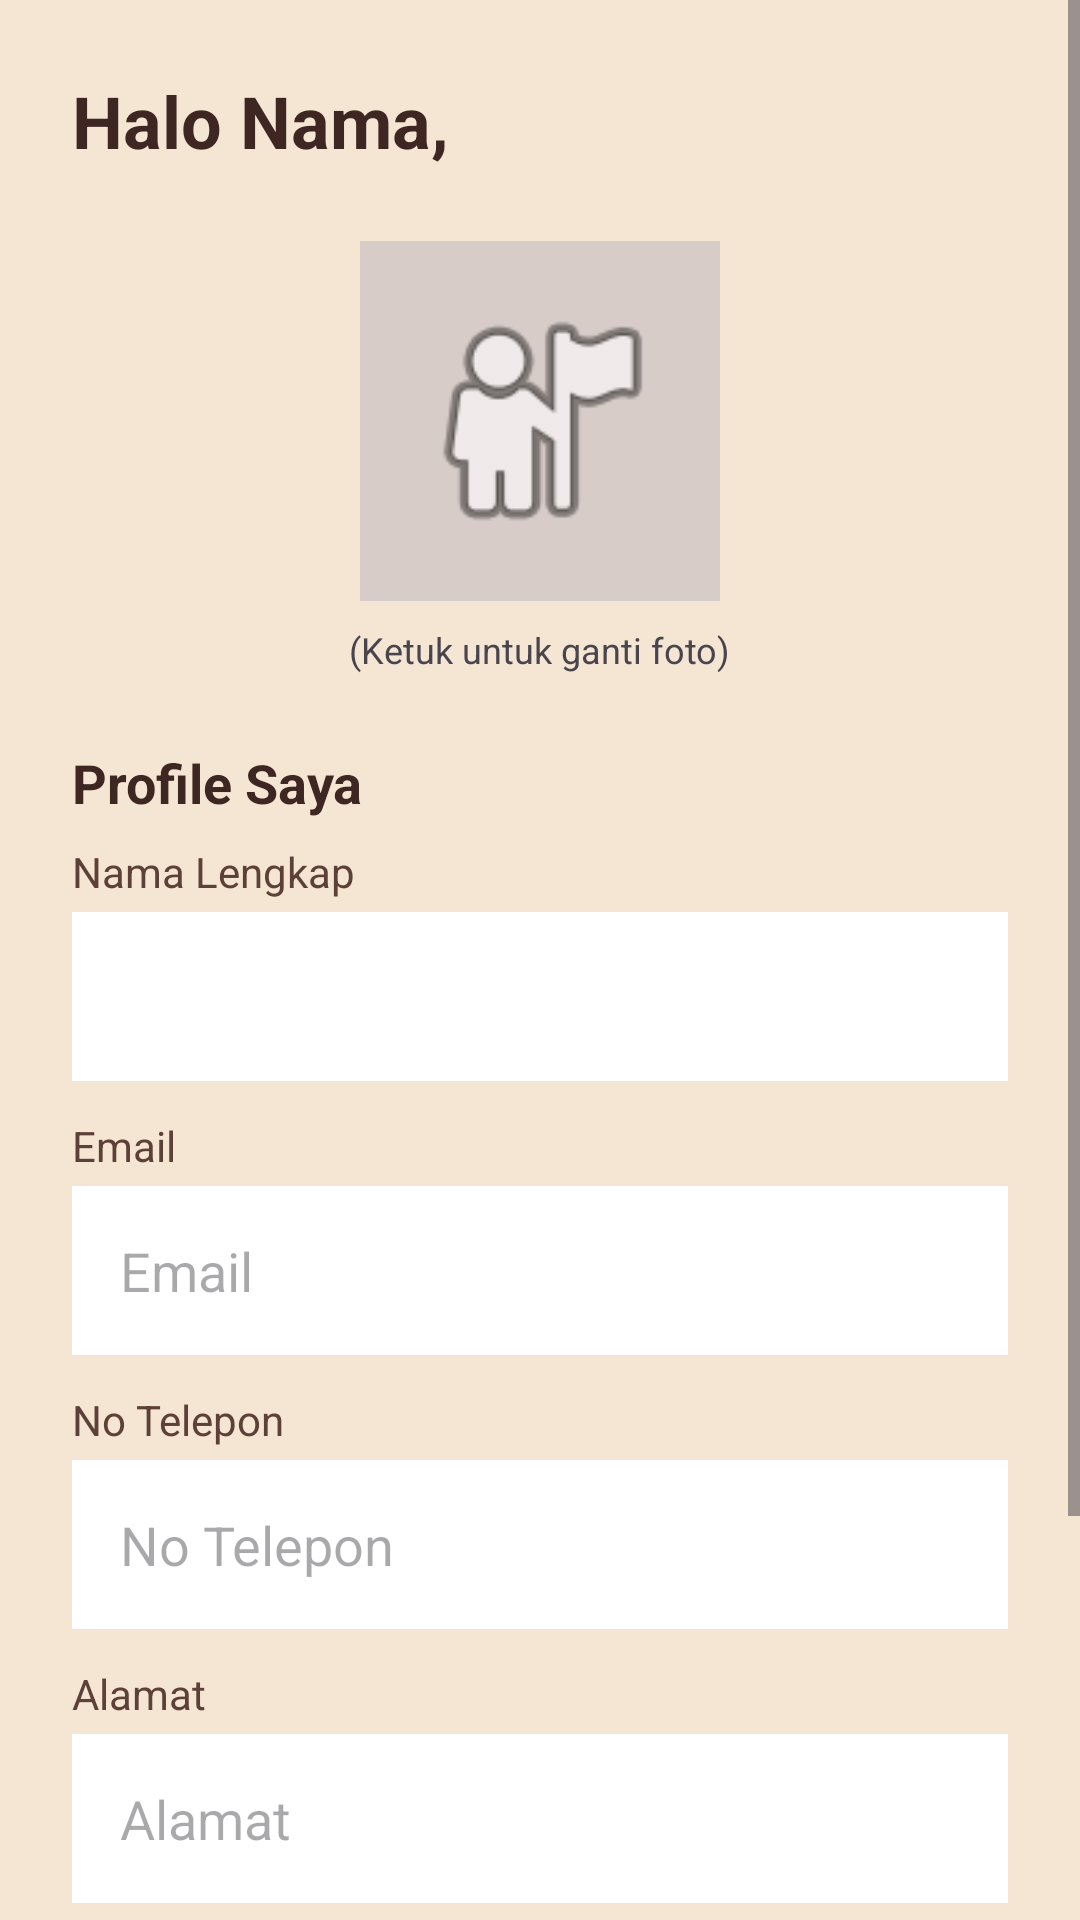

Where icons sit on this 1080x1920 app screen, as rect(x1, y1, x2, y2):
myplaces: rect(360, 241, 720, 601)
